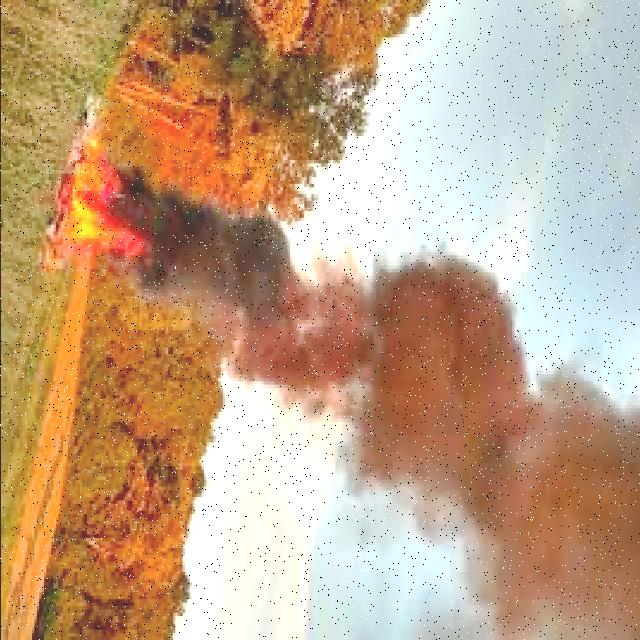api: (51, 128, 168, 284)
